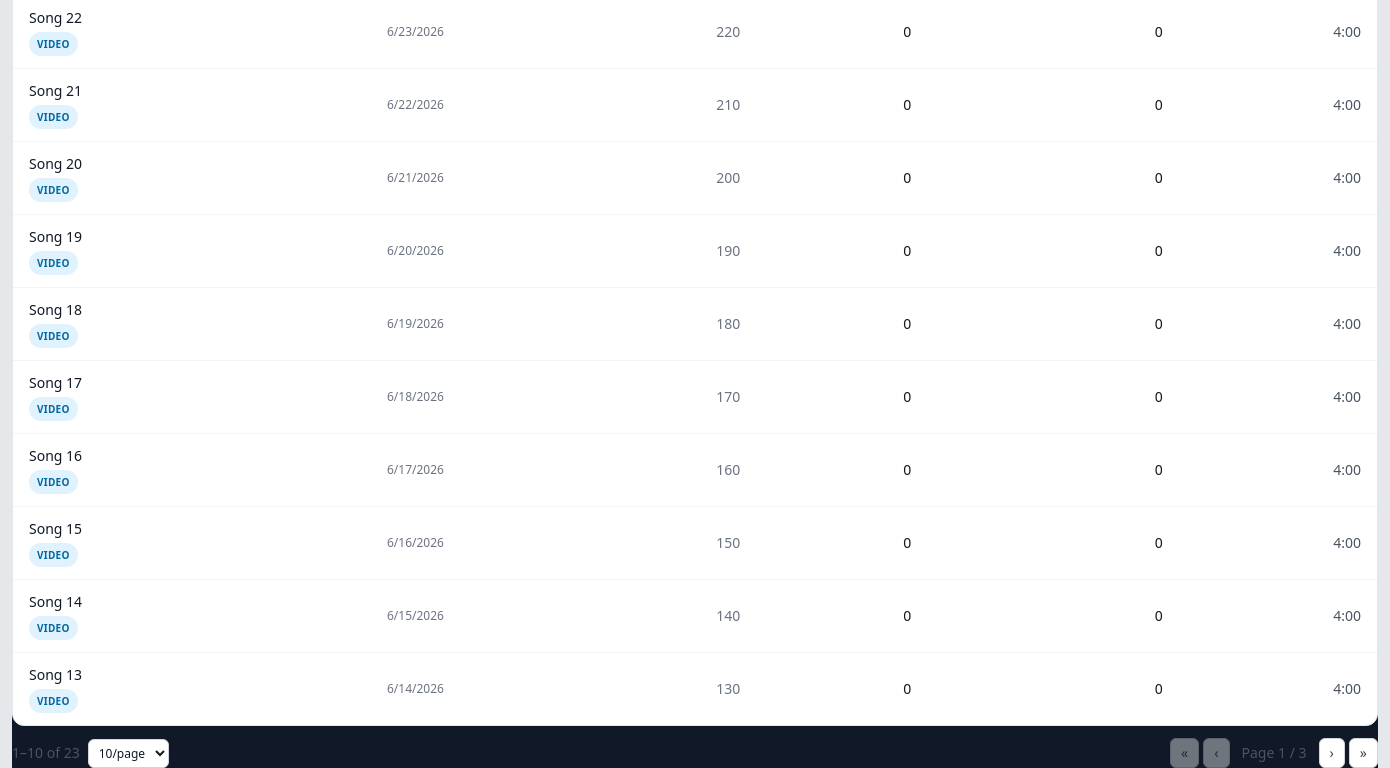
Test: YouTubeVideosPanel › changes page size
This screenshot has width=1390, height=768.
(page scrolled)
Select "25/page" in the dropdown named "Rows per page" at (128, 753), box [88,738,169,767]
(page scrolled)
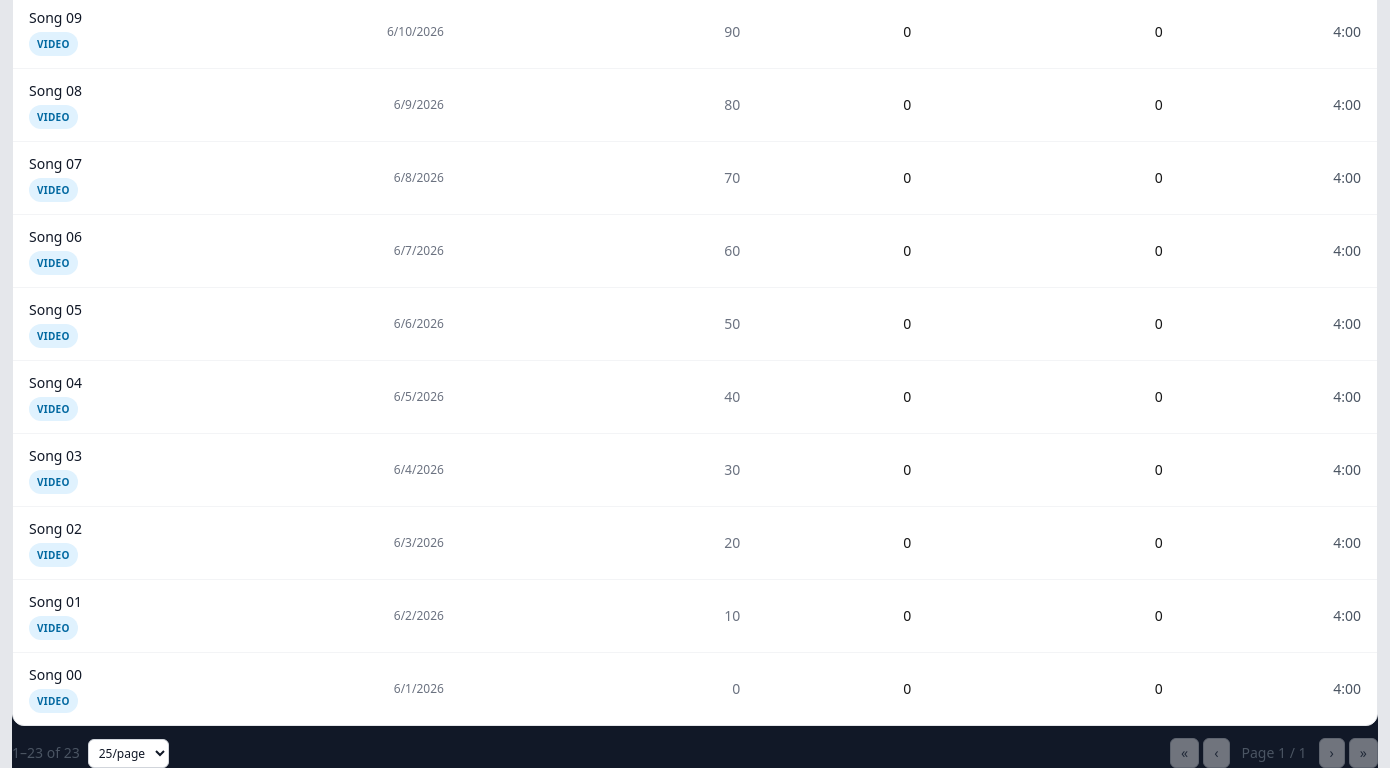
Now the text "1–23 of 23" is shown, box [12,743,80,763]
